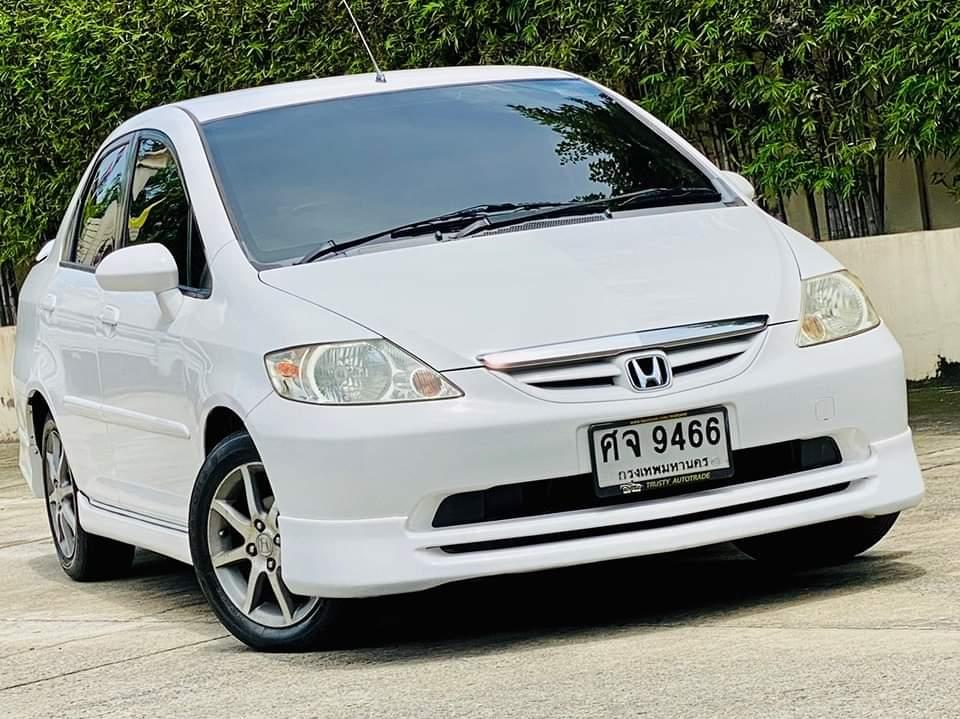license-plate: (583, 401, 738, 504)
